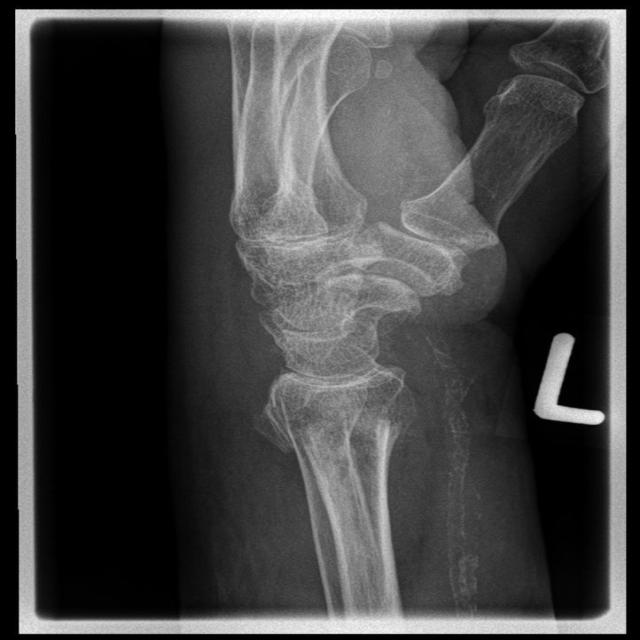fracture: (292, 401, 394, 463)
